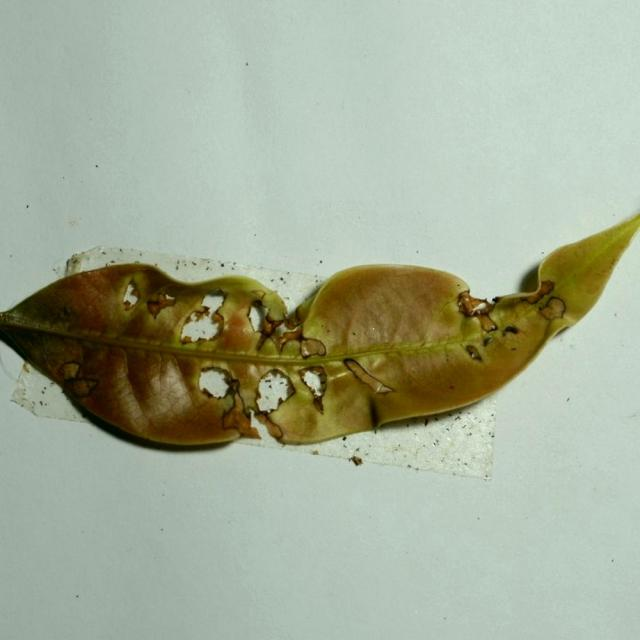Anthracnose: (0, 218, 639, 451), (196, 365, 263, 440), (176, 288, 230, 345), (179, 359, 239, 408), (255, 367, 298, 413), (342, 357, 395, 394), (500, 278, 557, 312), (456, 291, 499, 334), (57, 360, 100, 400), (248, 289, 284, 332), (298, 365, 329, 413), (255, 310, 285, 353), (146, 290, 177, 320), (537, 296, 567, 321), (123, 278, 144, 310), (300, 338, 327, 359), (246, 304, 263, 333), (58, 361, 81, 381), (207, 287, 229, 304), (465, 345, 483, 362), (251, 298, 265, 313)
